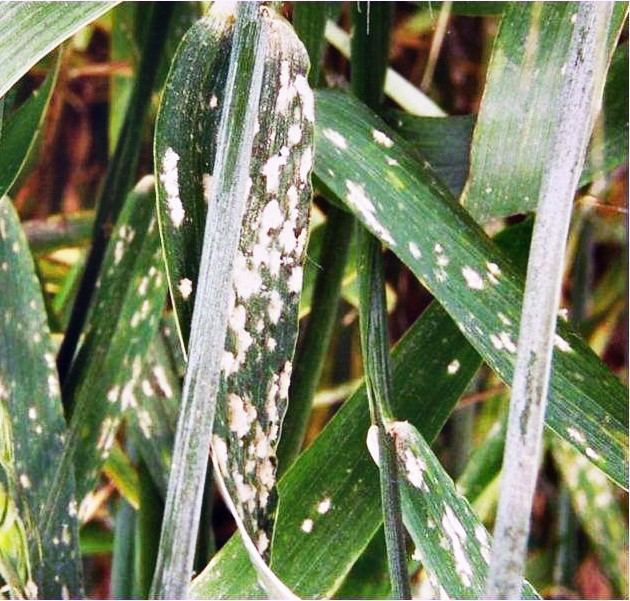Powdery Mildew: (191, 54, 317, 519)
